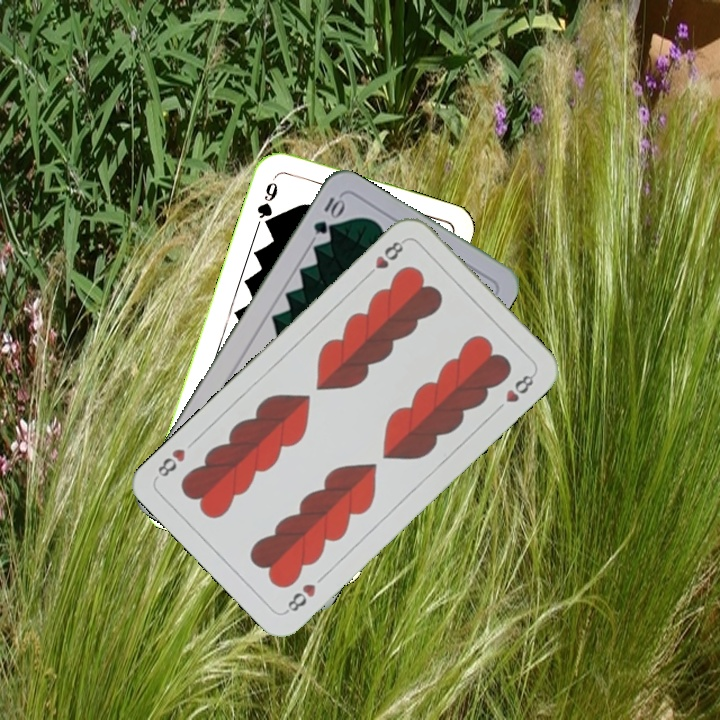G10: (309, 193, 347, 238)
G9: (253, 171, 281, 231)
H8: (361, 236, 407, 281), (281, 579, 319, 616)
